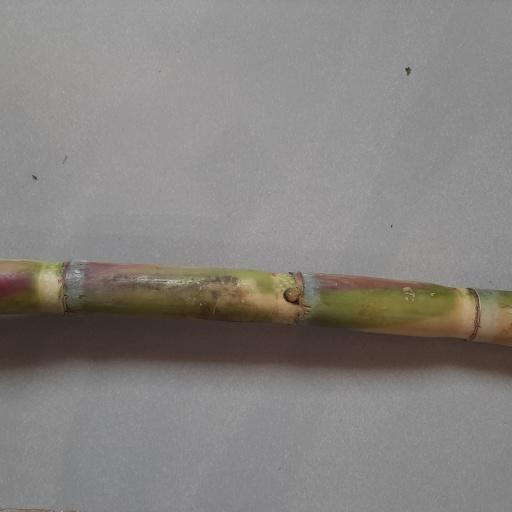Bud: (283, 287, 301, 305)
